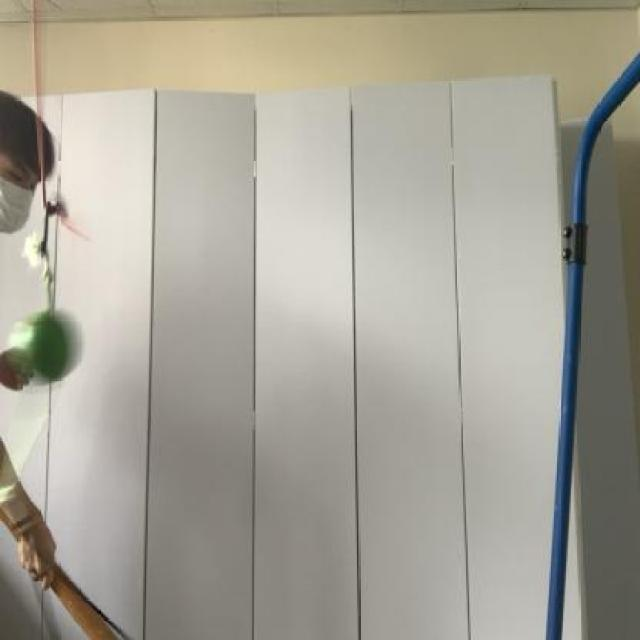baseball: (9, 302, 96, 388)
